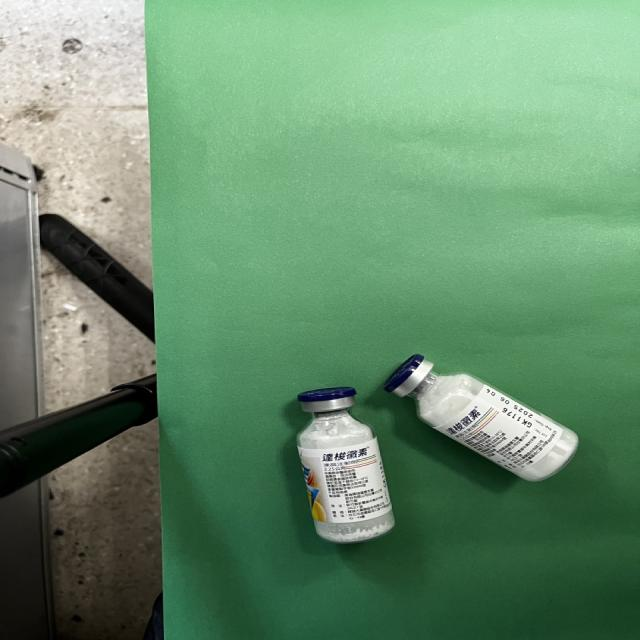Vials: (383, 354, 579, 482), (297, 387, 395, 545)
